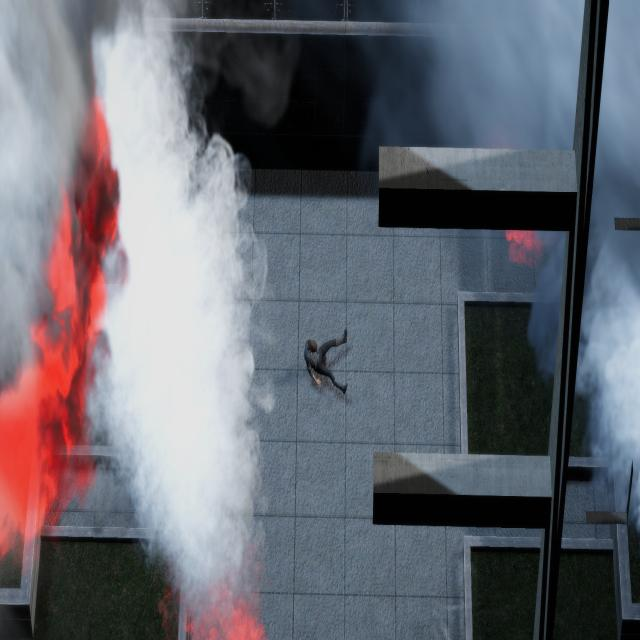Human: (296, 318, 352, 424)
